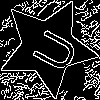U: (23, 22, 80, 76)
